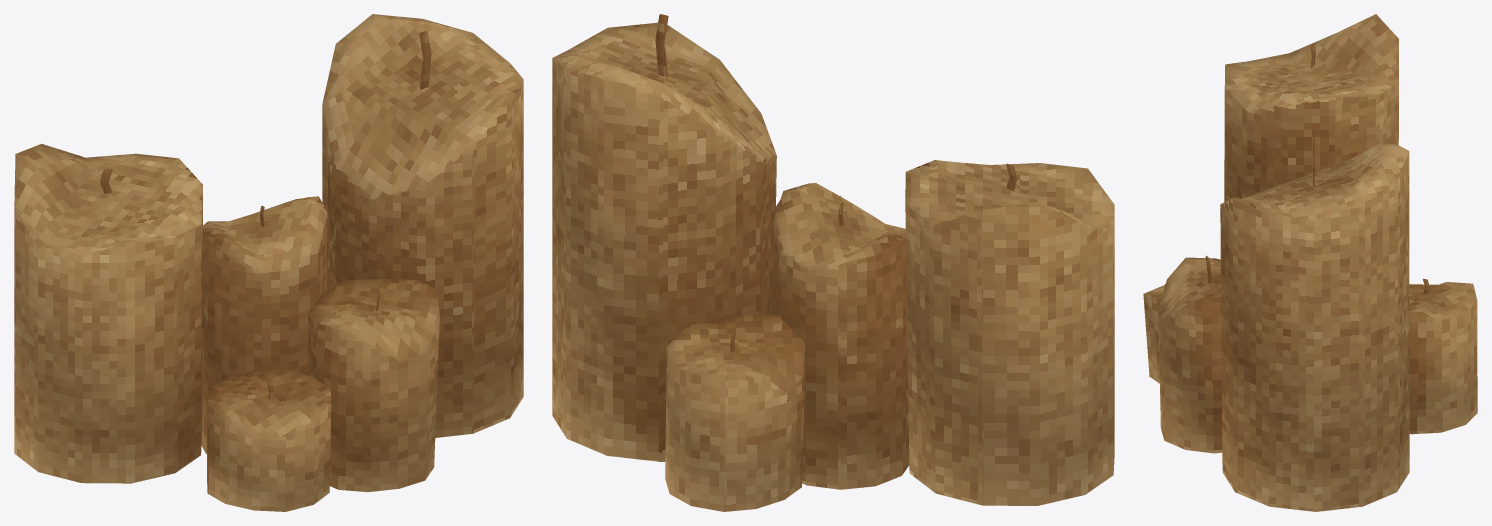
File: Candles.gltf
3 views of the same model, side by side, from view 1: azimuth 30°, elevation 25°; view 2: azimuth 150°, elevation 25°; view 3: azimuth 270°, elevation 25° (orthographic). The views are drawn at different scales.
Visible parts, largest first — view 1: Candles; view 2: Candles; view 3: Candles.
Boxes of the visible parts, box(x1,y1,x2,y2) form: Candles: box(14, 14, 523, 511); Candles: box(552, 14, 1114, 511); Candles: box(1143, 14, 1477, 511).
Bounding box in the file's own units: 1.98 × 1.44 × 1.27.
1 material, 1 textured.
